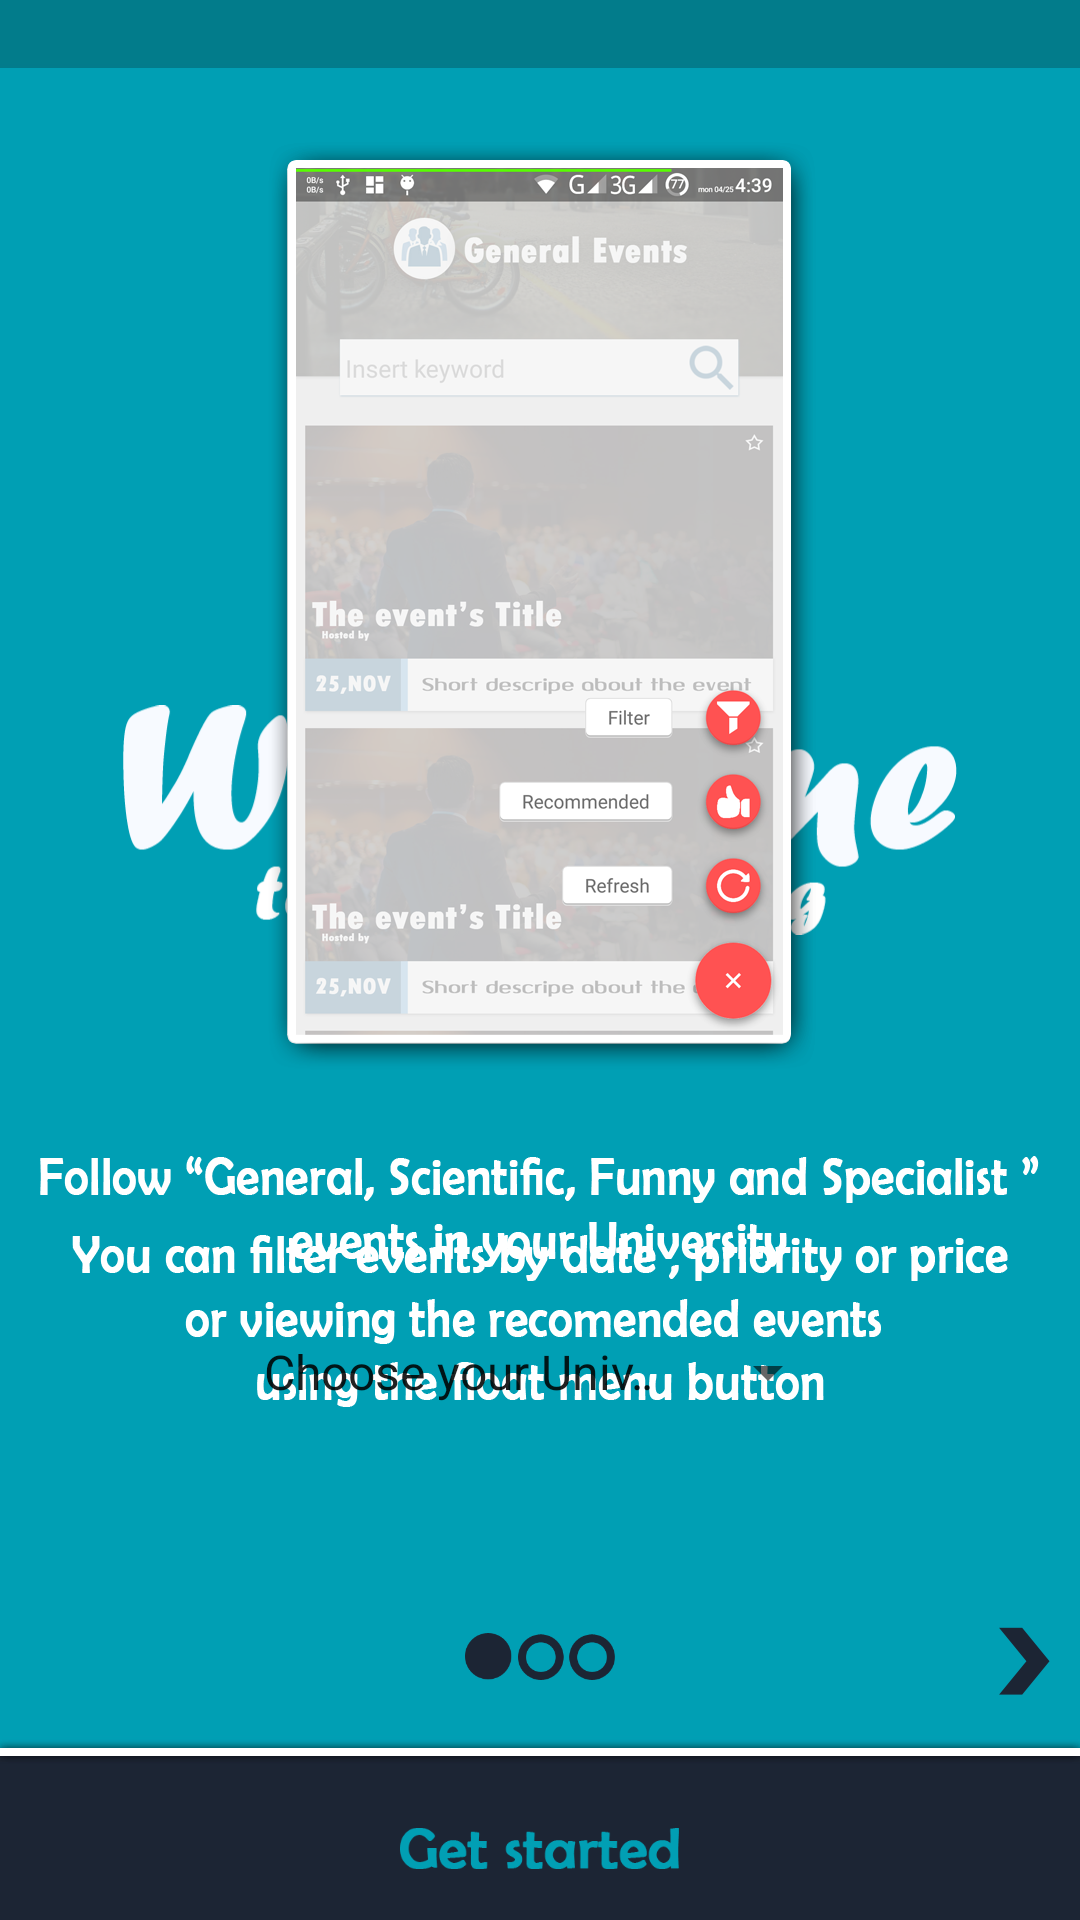

Icon click points for this 1080 × 1920 phone screenshot, format point (x, y):
next arrow: point (1024, 1661)
